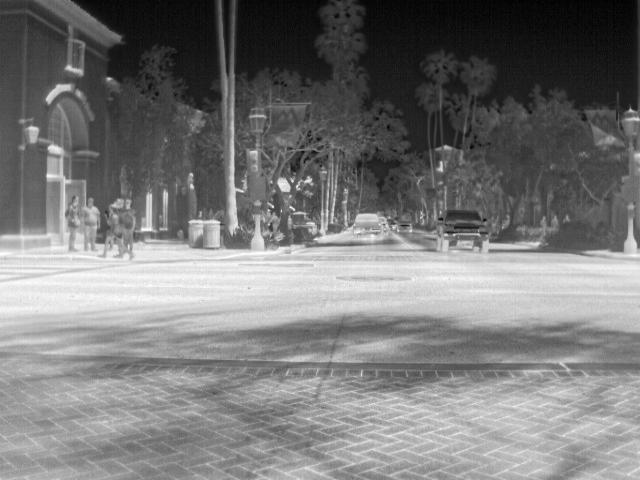car: (438, 208, 492, 255), (351, 212, 382, 239), (374, 212, 391, 236), (396, 218, 414, 234)
person: (117, 197, 138, 261), (99, 204, 122, 257), (82, 195, 102, 252), (65, 193, 83, 253), (267, 208, 283, 233), (549, 213, 561, 229), (559, 212, 573, 224), (539, 214, 550, 228)
